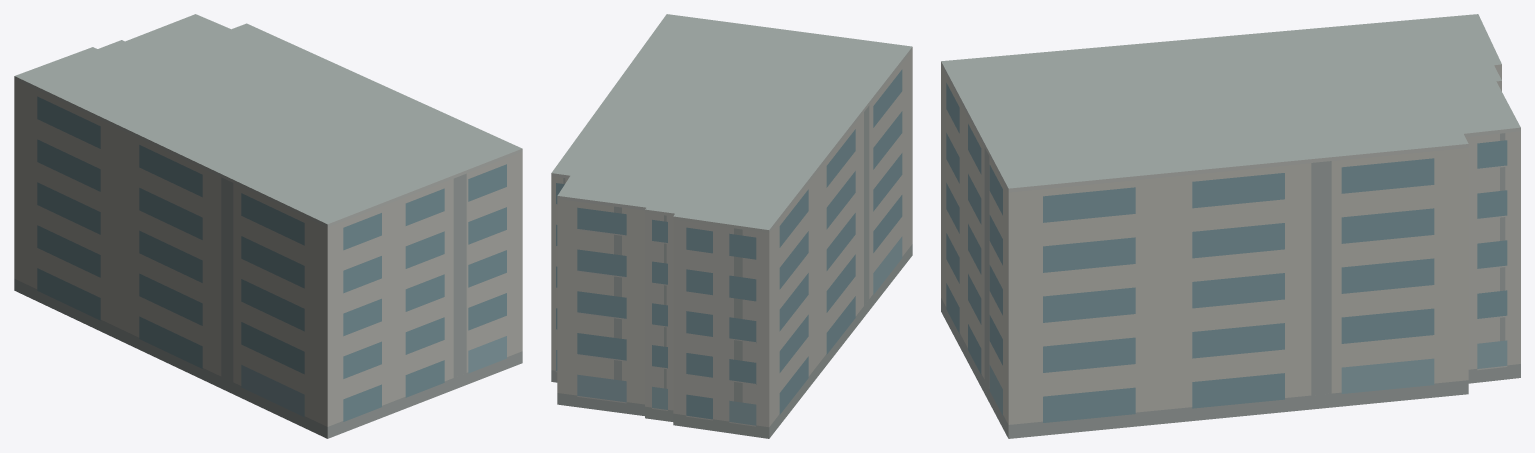
File: survey-upis-32493745.glb
The picture shows the model from 3 angles, left to right: view 1: azimuth 30°, elevation 25°; view 2: azimuth 150°, elevation 25°; view 3: azimuth 270°, elevation 25°; orthographic projection. The views are drawn at different scales.
Parts seen in each view (by area): view 1: survey-upis-32493745.tmp; view 2: survey-upis-32493745.tmp; view 3: survey-upis-32493745.tmp.
Boxes of the visible parts, x1,y1,x2,y2 form: survey-upis-32493745.tmp: (14,14,522,438); survey-upis-32493745.tmp: (551,14,912,438); survey-upis-32493745.tmp: (941,14,1520,438).
Size of the model in its own units: 23.94 by 16 by 33.6.
